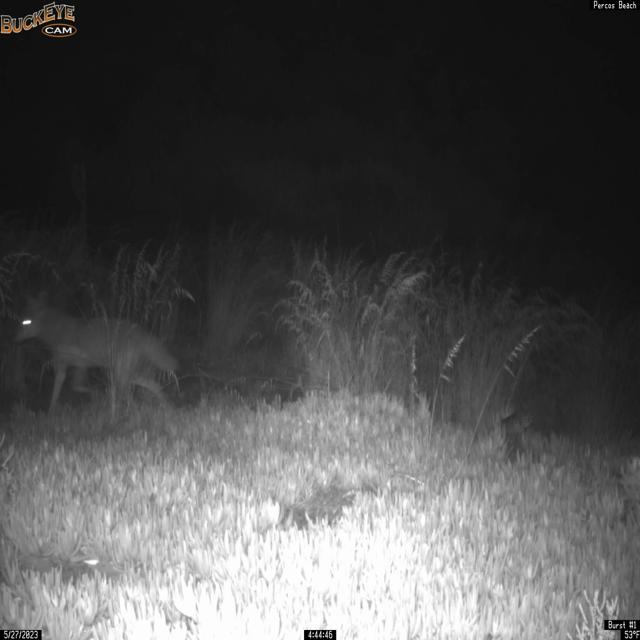coyote: (12, 290, 182, 420)
